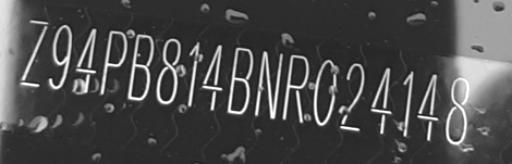letter: (252, 49, 284, 119), (18, 17, 50, 86), (280, 54, 310, 124), (125, 34, 155, 103), (98, 29, 128, 96), (442, 75, 470, 145), (226, 46, 254, 116), (338, 62, 366, 132), (368, 65, 396, 135), (46, 22, 74, 90), (415, 70, 441, 143), (156, 36, 182, 106), (73, 26, 99, 95), (312, 58, 338, 127), (200, 43, 224, 111), (184, 40, 202, 109), (400, 67, 414, 137)
